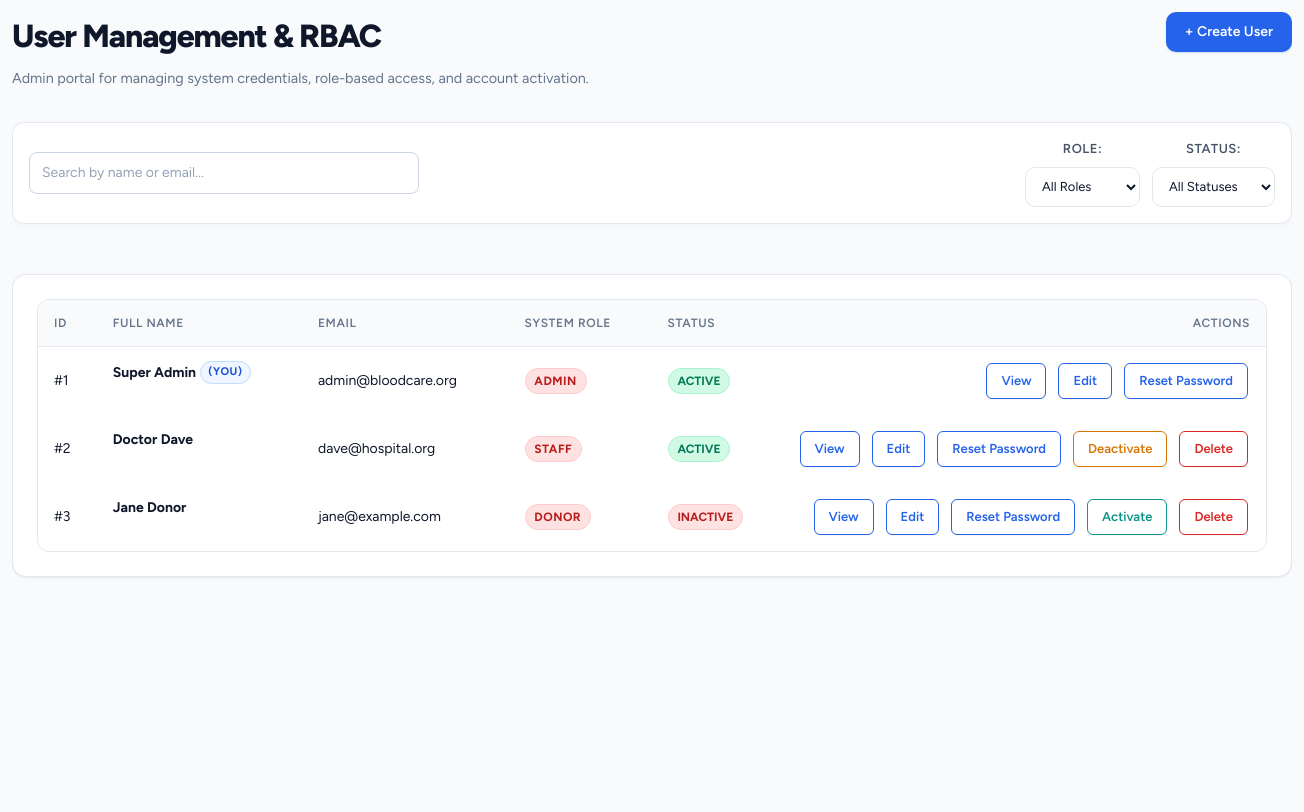
Test: Users Page Component › filters users by system role
Step 1. Select "STAFF" in the dropdown with test id "select-filter-role" → (1082, 187), box 1025,167 -> 1140,207
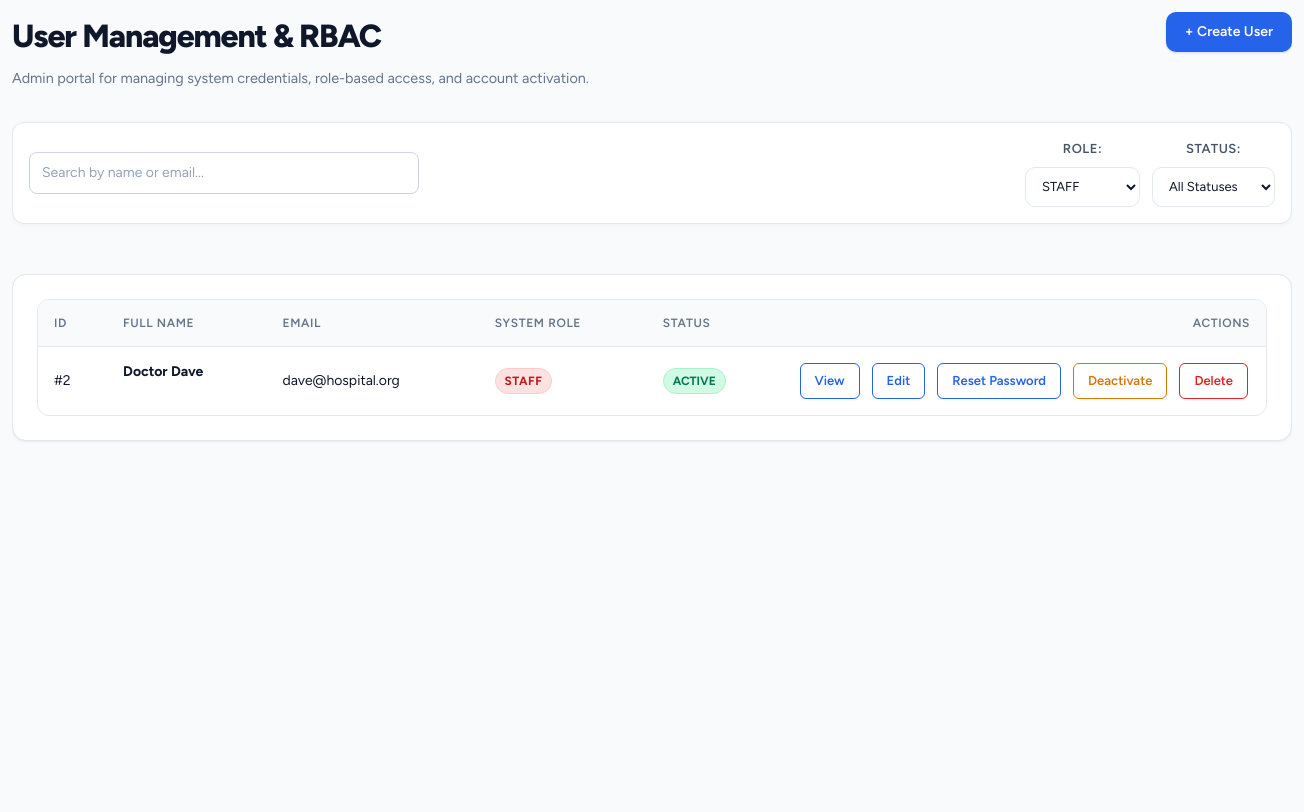
Expected: the text "Doctor Dave" is shown, 123,361 -> 203,382
Result: the text "Super Admin" is gone
Result: the text "Jane Donor" is gone
